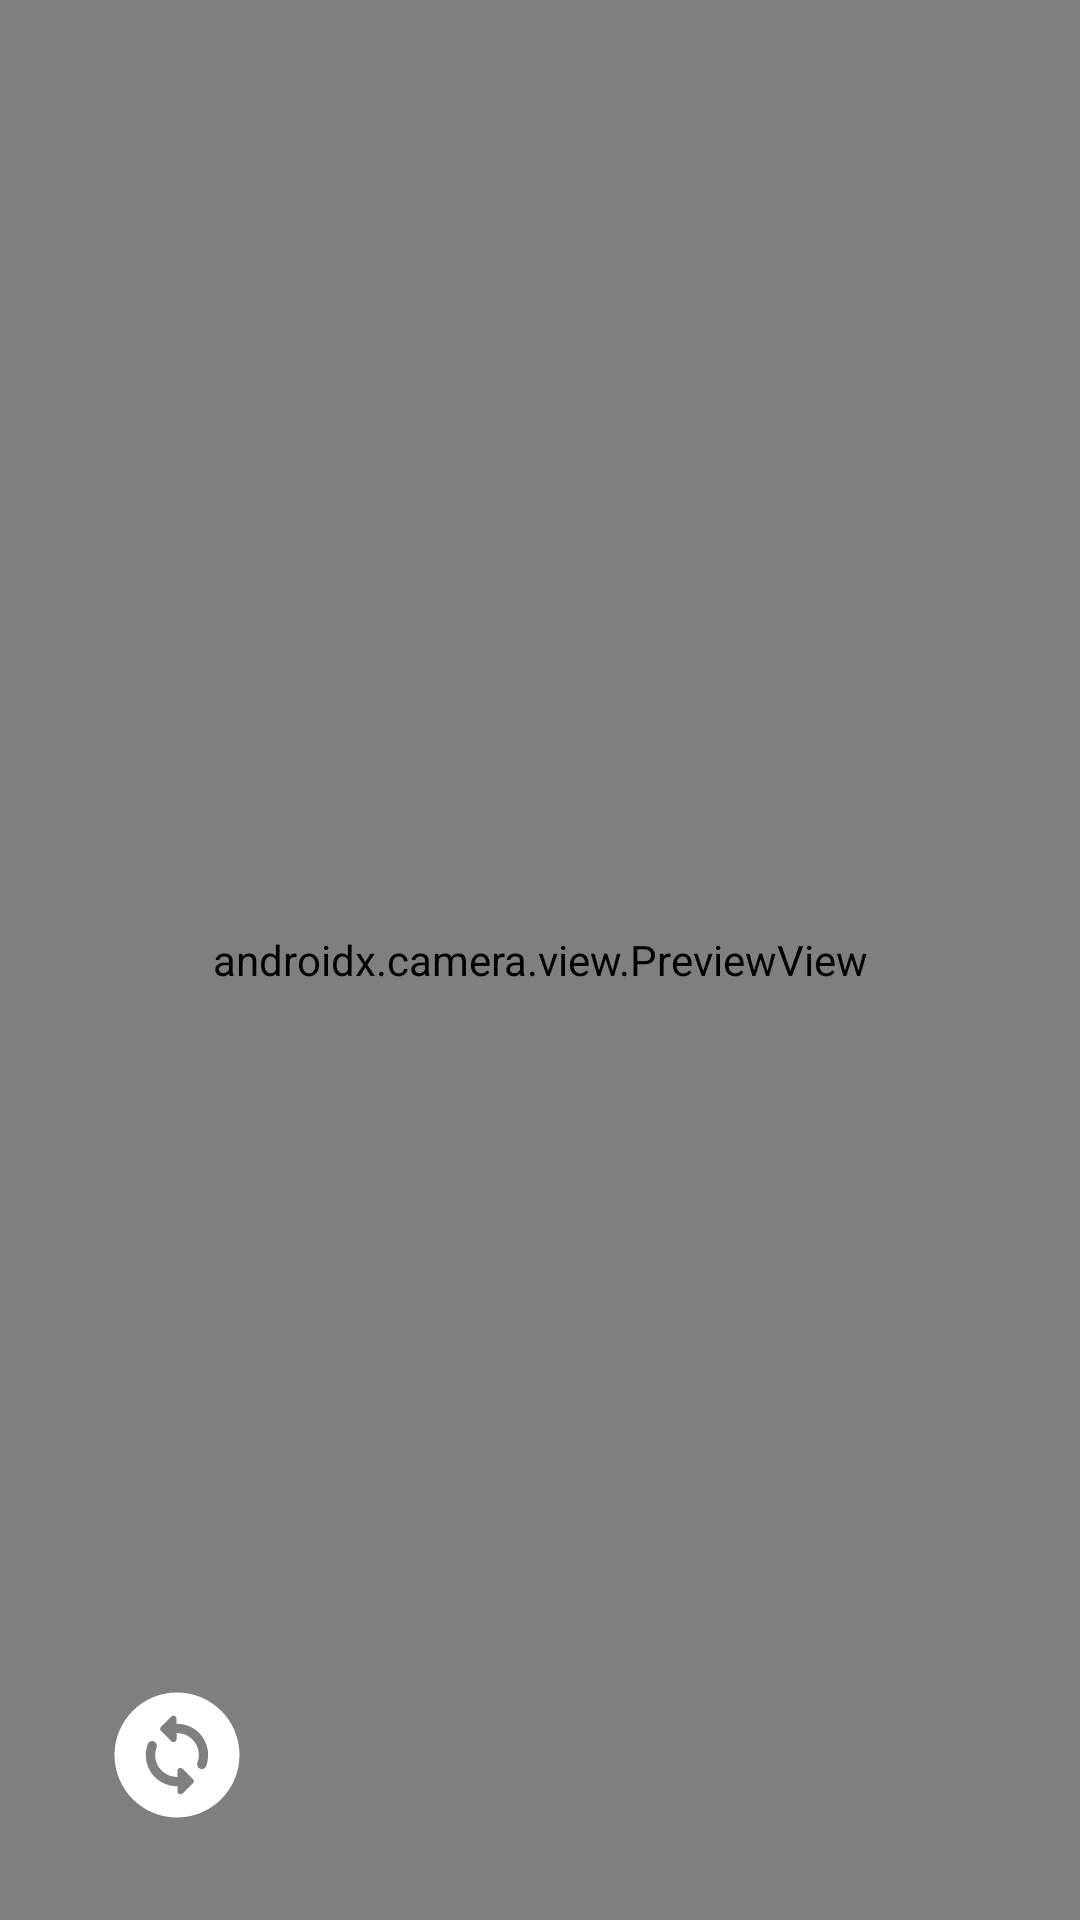

Point at icon controls on the screen. Image size 1080*1920, points as (x=x, y=y).
change camera view: (x=177, y=1755)
